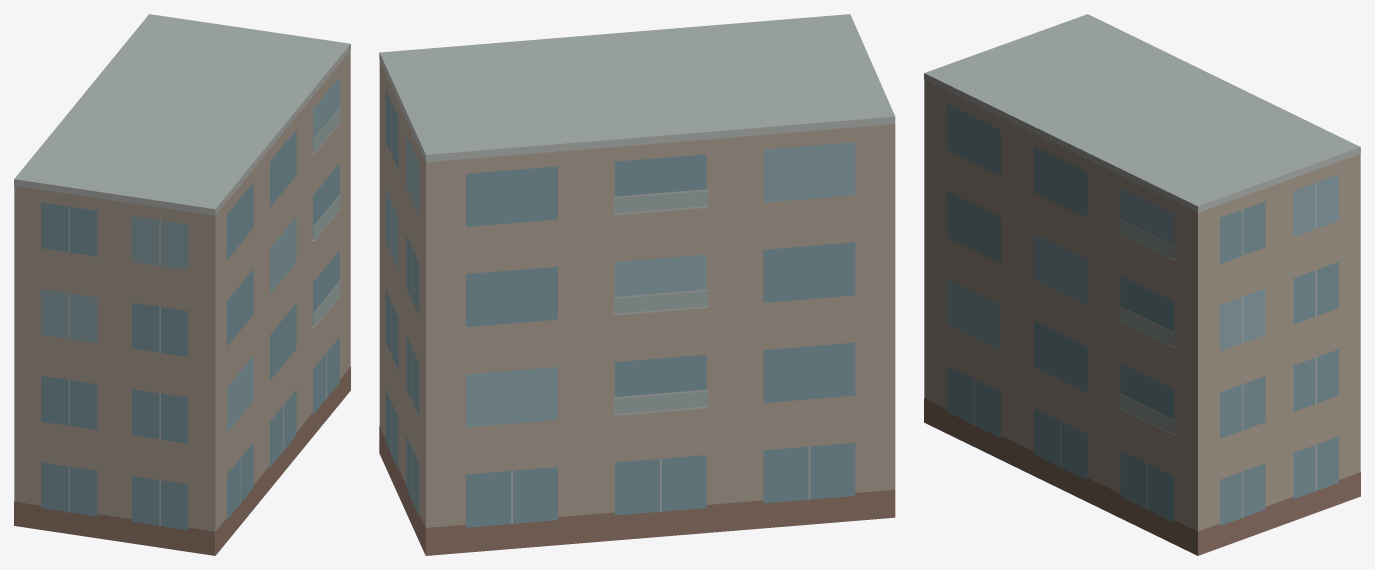
The model's file is survey-upis-32925847.glb.
3 views of the same model, side by side, from view 1: azimuth 30°, elevation 25°; view 2: azimuth 150°, elevation 25°; view 3: azimuth 270°, elevation 25° (orthographic). The views are drawn at different scales.
Parts seen in each view (by area): view 1: survey-upis-32925847.tmp; view 2: survey-upis-32925847.tmp; view 3: survey-upis-32925847.tmp.
Part boxes in pixels (box(x1,y1,x2,y2)): survey-upis-32925847.tmp: box(14, 14, 350, 555); survey-upis-32925847.tmp: box(379, 14, 895, 555); survey-upis-32925847.tmp: box(924, 14, 1360, 555).
Size of the model in its own units: 15.37 by 13 by 14.73.
